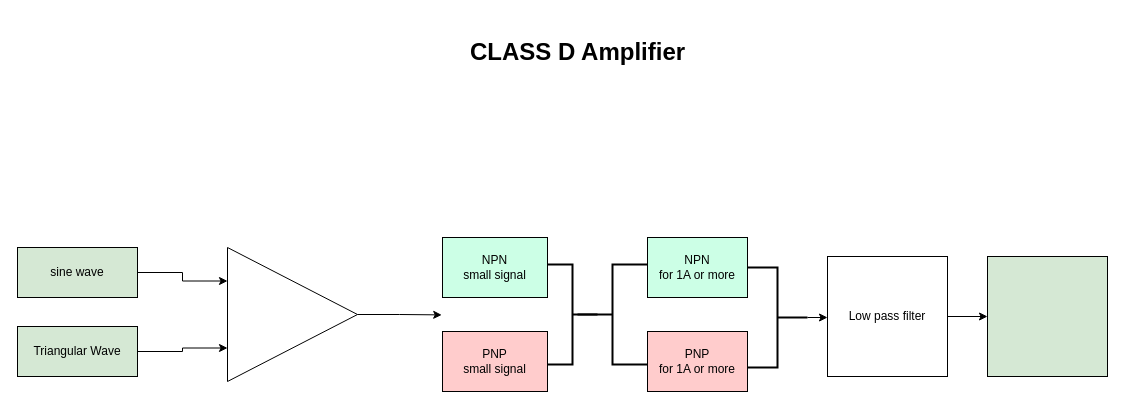
This 1125x409 diagram has some shape labels left out. Here are the shapes that lost their labels. From the top down, the centre of each, then its label:
the point at 292,314: comparator
the point at 1047,316: Output
